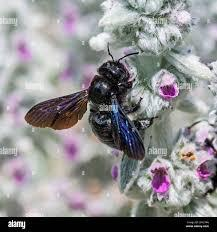Xylocopa: (27, 44, 165, 159)
